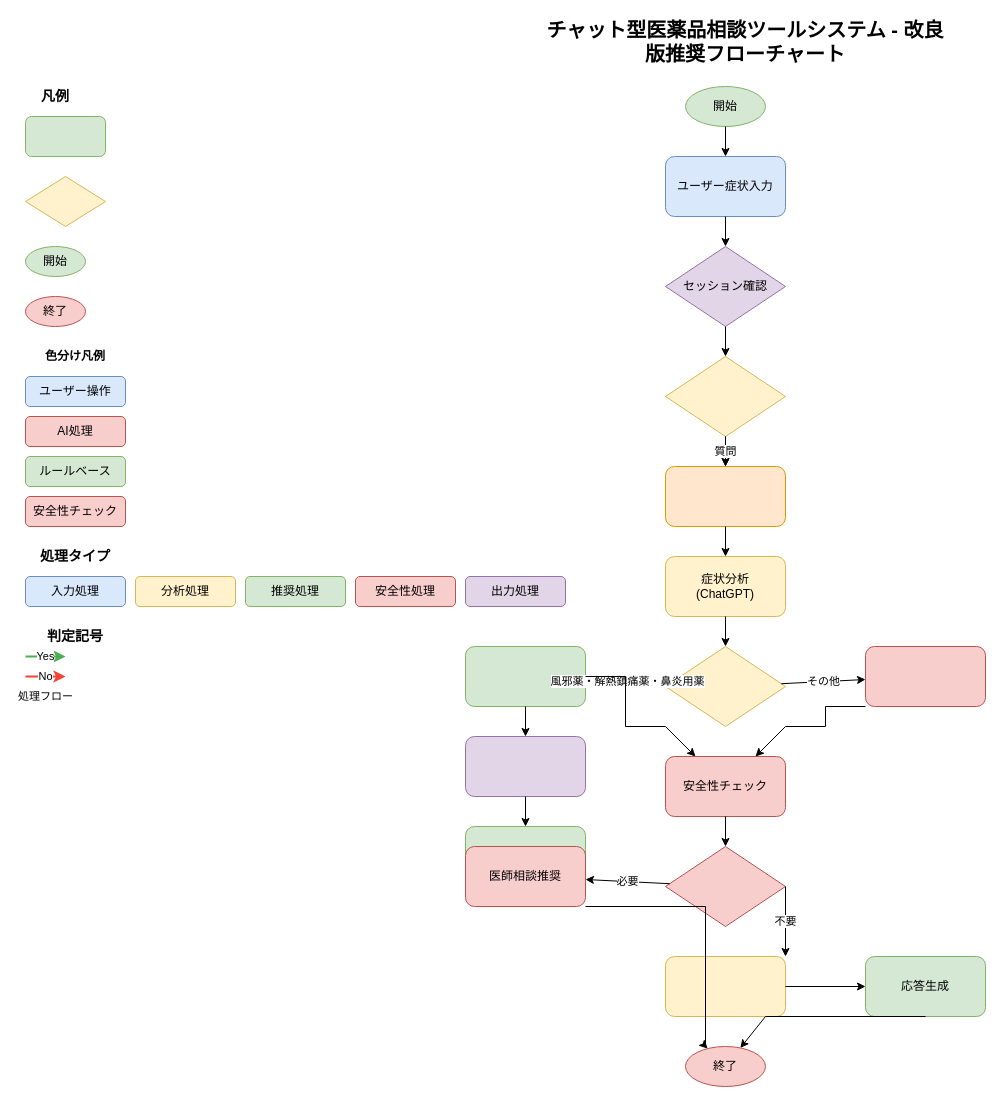
This 1003x1104 diagram has some shape labels left out. The centre of each missing label's shape, as x and y in pixels:
AI推奨 (ChatGPT): (x=925, y=676)
NLU処理: (x=525, y=766)
エスカレーション 必要？: (x=725, y=886)
プロセス: (x=65, y=136)
ルールベース推奨: (x=525, y=676)
不足情報チェック: (x=725, y=986)
入力内容判定: (x=725, y=396)
判定: (x=65, y=201)
医薬品種類判定 (ChatGPT): (x=725, y=686)
属性抽出: (x=725, y=496)
